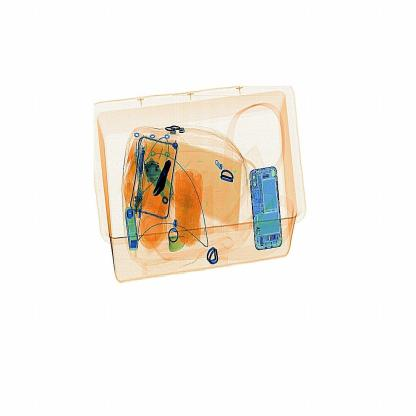knife: (152, 154, 179, 206)
